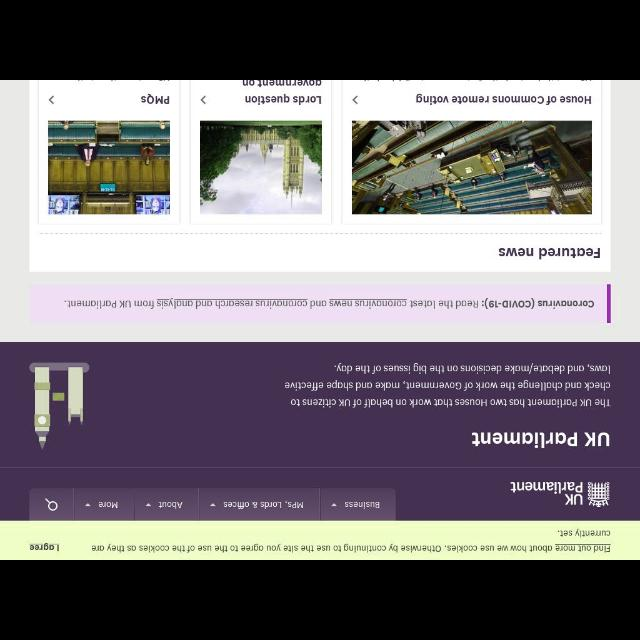icon: (44, 496, 60, 512), (350, 96, 360, 104), (200, 96, 208, 106), (50, 95, 56, 105), (210, 502, 216, 510), (85, 502, 92, 508), (145, 504, 153, 508), (330, 504, 336, 508)
iframe: (1, 521, 639, 559)
image: (352, 120, 592, 214), (199, 119, 321, 213), (48, 122, 168, 214), (26, 361, 94, 451), (510, 480, 612, 512)
multitab: (28, 489, 396, 518)
spinner: (200, 492, 318, 516), (320, 489, 394, 516), (134, 492, 200, 514), (75, 491, 135, 514)
text: (282, 363, 612, 407), (63, 298, 595, 308), (470, 426, 612, 452), (416, 94, 592, 106), (242, 81, 324, 105), (499, 246, 603, 260), (222, 500, 304, 510), (346, 499, 382, 511), (139, 95, 169, 105), (158, 499, 182, 511), (98, 500, 119, 510)
toolbar: (1, 468, 637, 516)
